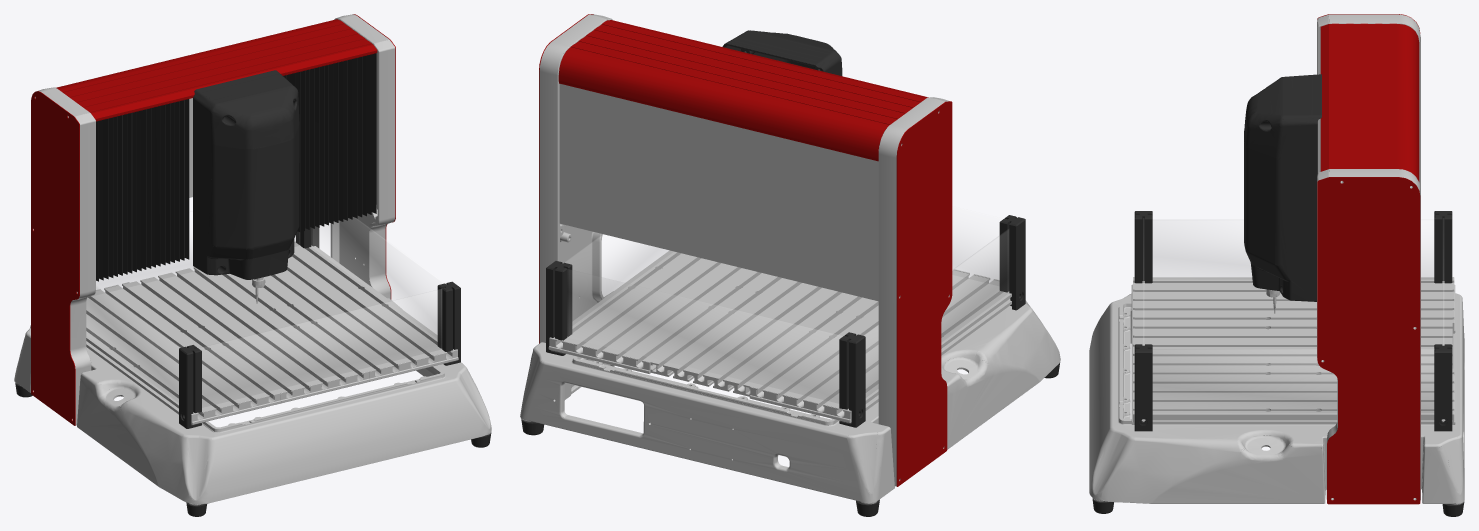
The picture shows the model from 3 angles, left to right: view 1: azimuth 30°, elevation 25°; view 2: azimuth 150°, elevation 25°; view 3: azimuth 270°, elevation 25°; orthographic projection. The views are drawn at different scales.
Visible parts, largest first — view 1: NONE, Object001, Object003, Object002; view 2: NONE, Object002, Object003, Object001; view 3: NONE, Object002, Object001, Object003.
Boxes of the visible parts, left/top/right/bottom form: NONE: left=14, top=14, right=491, bottom=505; Object001: left=15, top=53, right=491, bottom=516; Object003: left=87, top=211, right=443, bottom=407; Object002: left=31, top=14, right=395, bottom=425; NONE: left=520, top=14, right=1060, bottom=504; Object002: left=539, top=14, right=952, bottom=486; Object003: left=565, top=207, right=1008, bottom=402; Object001: left=521, top=30, right=1060, bottom=516; NONE: left=1089, top=14, right=1464, bottom=504; Object002: left=1317, top=14, right=1420, bottom=504; Object001: left=1092, top=74, right=1464, bottom=516; Object003: left=1143, top=218, right=1443, bottom=412.
Bounding box in the file's own units: 0.0211 × 0.0206 × 0.0205.
